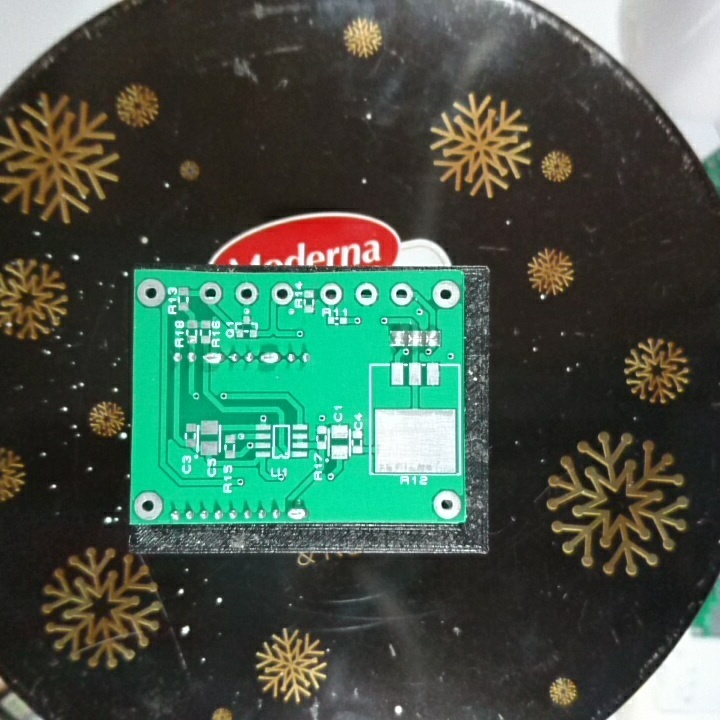F: (132, 488, 165, 522), (432, 488, 462, 521), (135, 277, 165, 309), (431, 279, 461, 310), (317, 281, 343, 307), (354, 282, 379, 308), (234, 280, 258, 307), (389, 283, 414, 308), (267, 283, 294, 306), (197, 282, 222, 306)
P: (284, 505, 310, 523), (257, 349, 281, 367), (201, 349, 225, 365)
